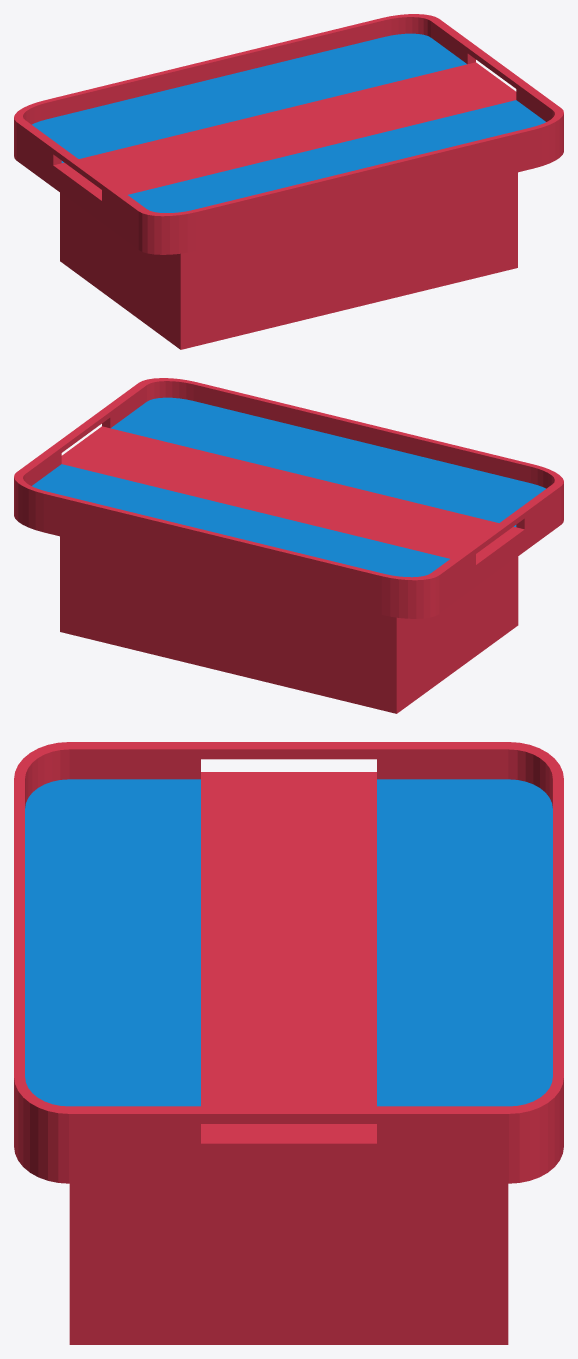
Rendered from AirHockey.fbx.
The picture shows the model from 3 angles, top to bottom: view 1: azimuth 30°, elevation 25°; view 2: azimuth 150°, elevation 25°; view 3: azimuth 270°, elevation 25°; orthographic projection. The views are drawn at different scales.
Parts seen in each view (by area): view 1: Cube; view 2: Cube; view 3: Cube.
Part boxes in pixels (<box>): Cube: <box>14,14,563,349</box>; Cube: <box>14,378,563,713</box>; Cube: <box>14,742,563,1344</box>.
Bounding box in the file's own units: 1600 × 540 × 1000.
